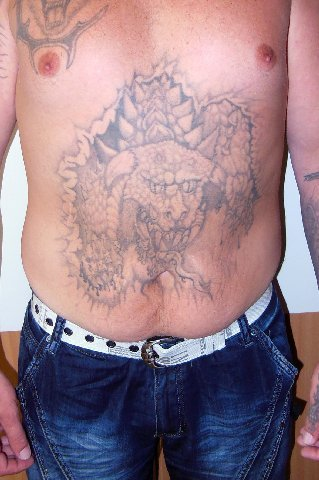tatu6_drakon: (47, 58, 267, 321)
